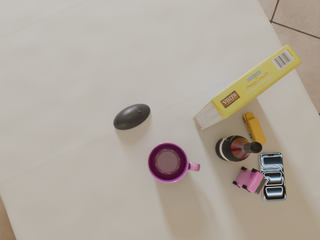bottle: (215, 136, 262, 162)
box: (193, 45, 302, 130)
cup: (148, 142, 200, 183)
mouse: (114, 104, 150, 130)
phone: (259, 152, 286, 201)
toy_car: (233, 167, 267, 195), (243, 112, 266, 144)
